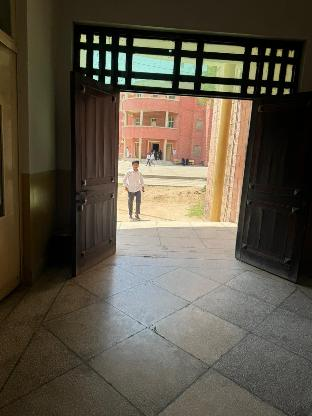door: (62, 13, 312, 284)
person: (122, 158, 148, 222)
